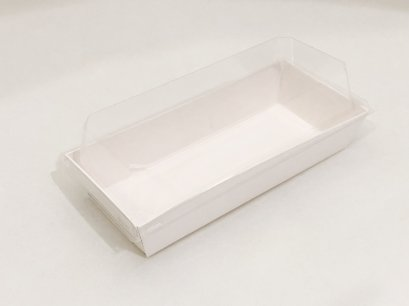PlasticBox: (57, 32, 376, 260)
